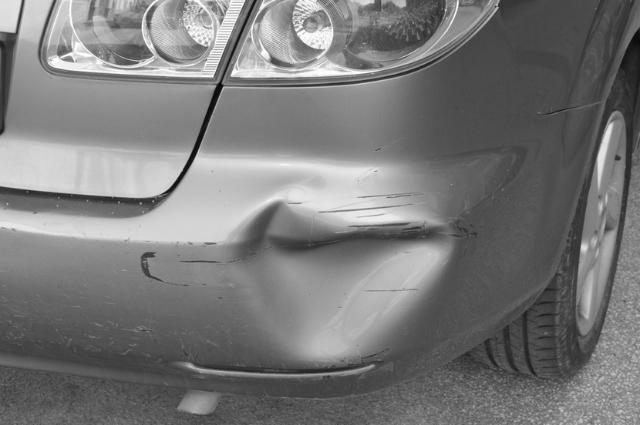Bumper: (87, 90, 541, 401)
